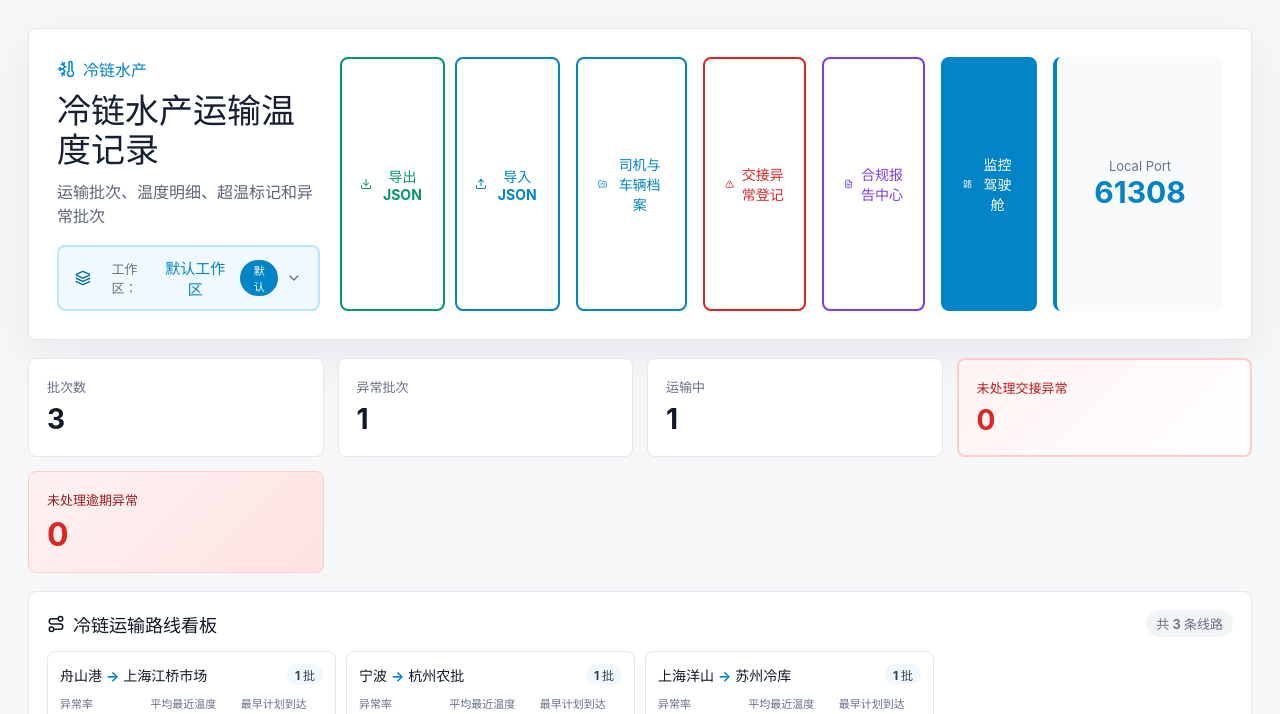
App 冒烟测试 - 核心页面路径 › 工作区切换 › 点击工作区按钮展开下拉菜单
Click the button "工作区： 默认工作区 默认".
click(188, 278)  # box left=57, top=245, right=320, bottom=311
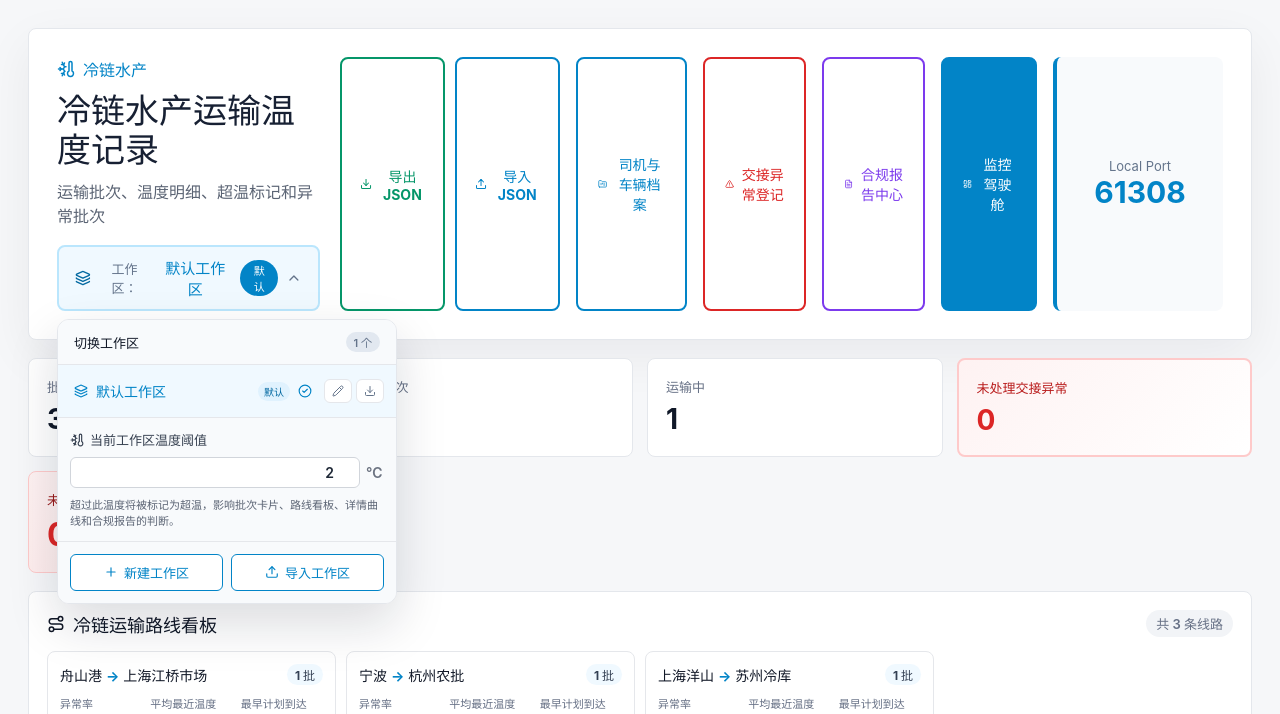
expect the text "切换工作区" is shown: met, box left=74, top=333, right=139, bottom=352
expect the button "新建工作区" is shown: met, box left=70, top=554, right=223, bottom=591
expect the button "导入工作区" is shown: met, box left=231, top=554, right=384, bottom=591
